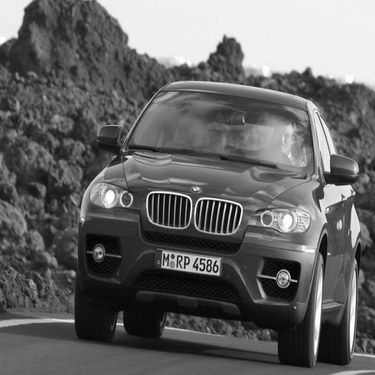car: (70, 79, 365, 369)
